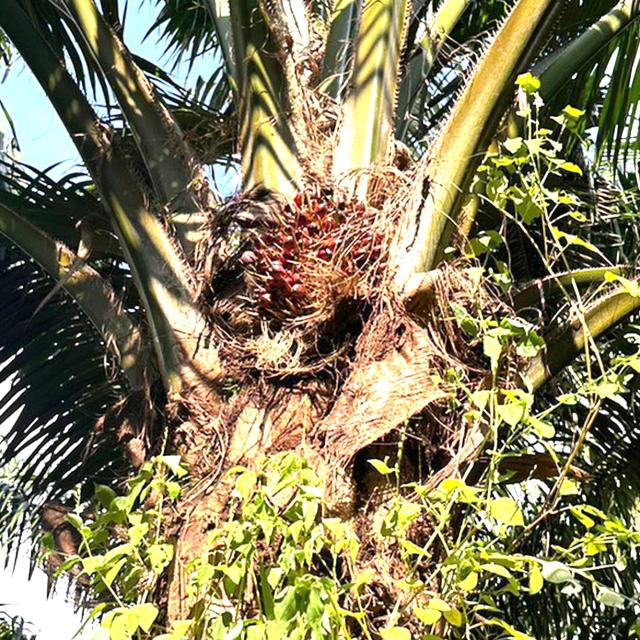almost: (234, 165, 402, 333)
